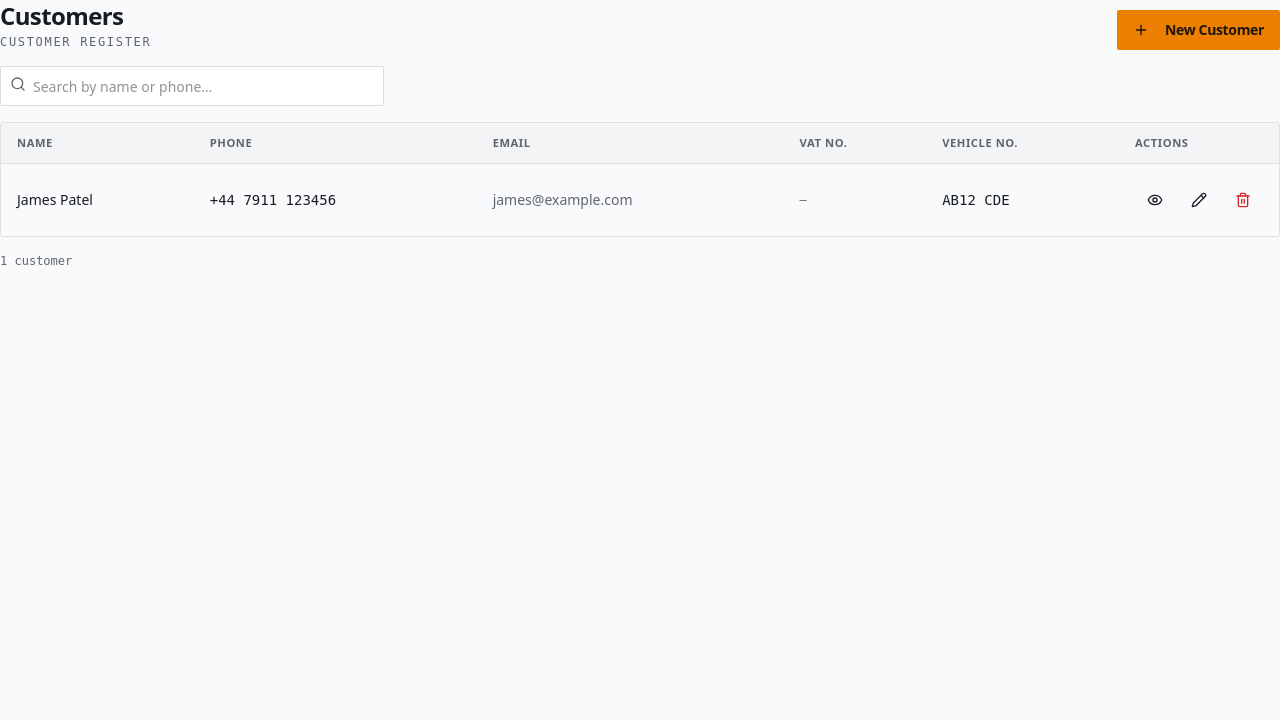
CustomerListPage › opens new customer dialog on button click
The width and height of the screenshot is (1280, 720).
Expected: the text "James Patel" is shown, [1,163,194,236]
Click the button "New Customer" at (1198, 30), box [1117,10,1279,50]
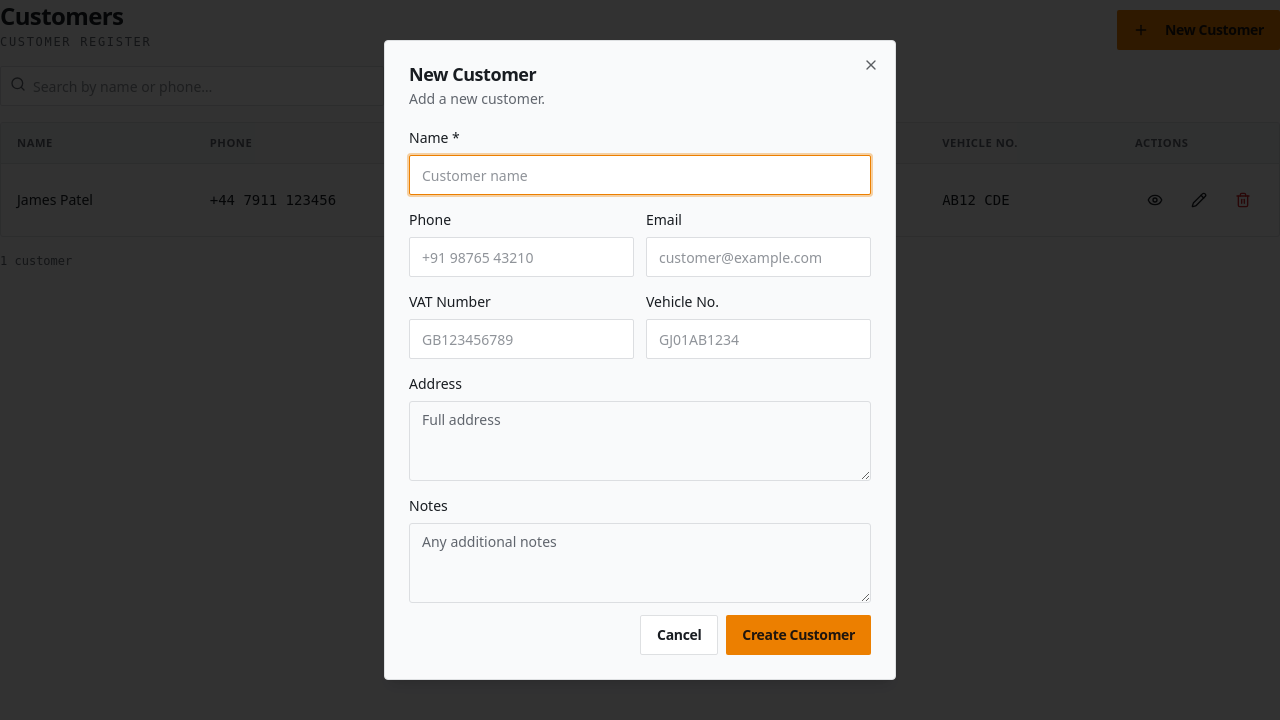
Result: the dialog is shown at [384,40,896,680]
Result: the heading "New Customer" is shown at [409,62,536,86]
